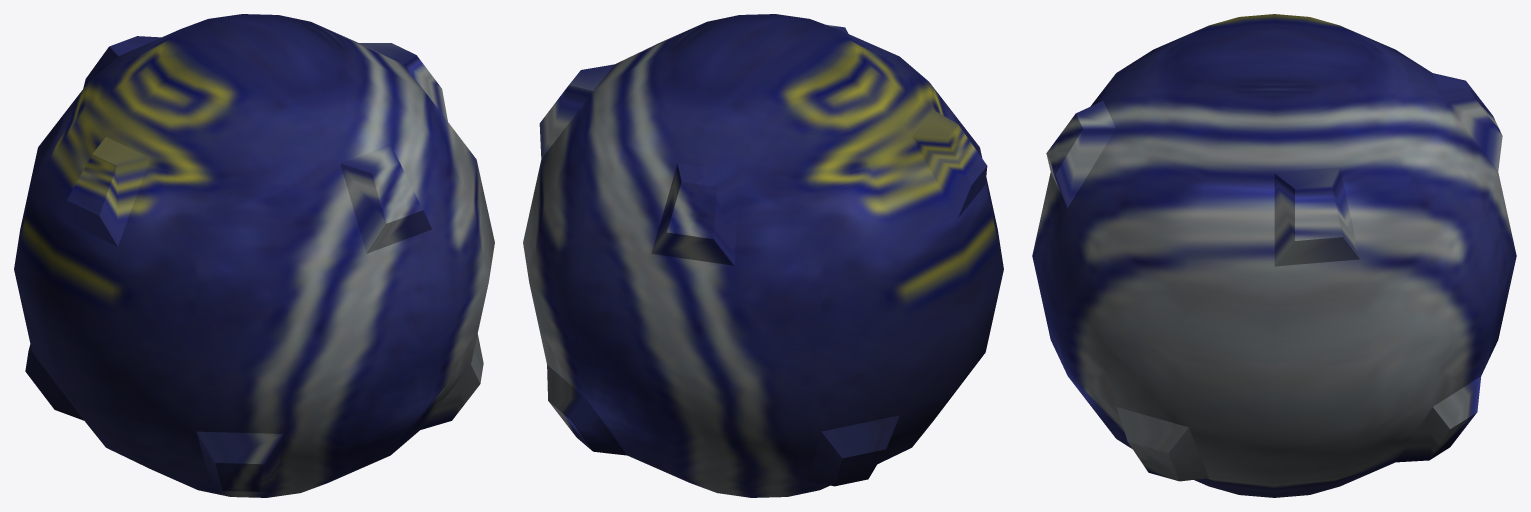
Rendered from Blitzball.FBX.
The picture shows the model from 3 angles, left to right: view 1: azimuth 30°, elevation 25°; view 2: azimuth 150°, elevation 25°; view 3: azimuth 270°, elevation 25°; orthographic projection.
Parts seen in each view (by area): view 1: Sphere001; view 2: Sphere001; view 3: Sphere001.
Boxes of the visible parts, x1,y1,x2,y2 form: Sphere001: (14,14,494,497); Sphere001: (523,14,1003,497); Sphere001: (1032,14,1516,497).
Size of the model in its own units: 4 by 4 by 4.
